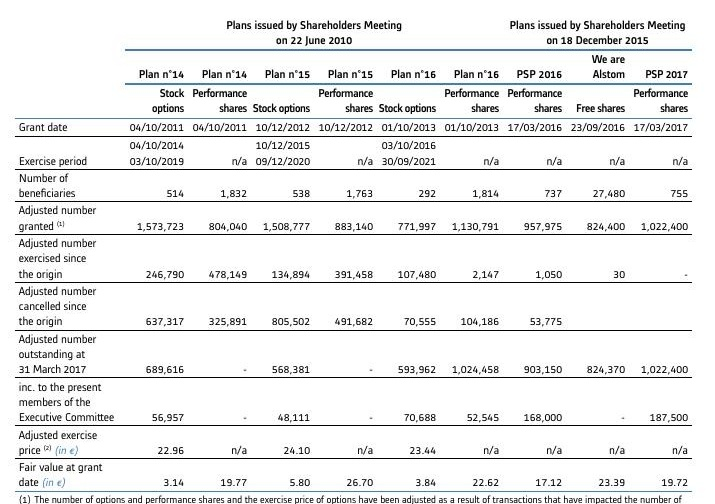table: (0, 0, 715, 504)
